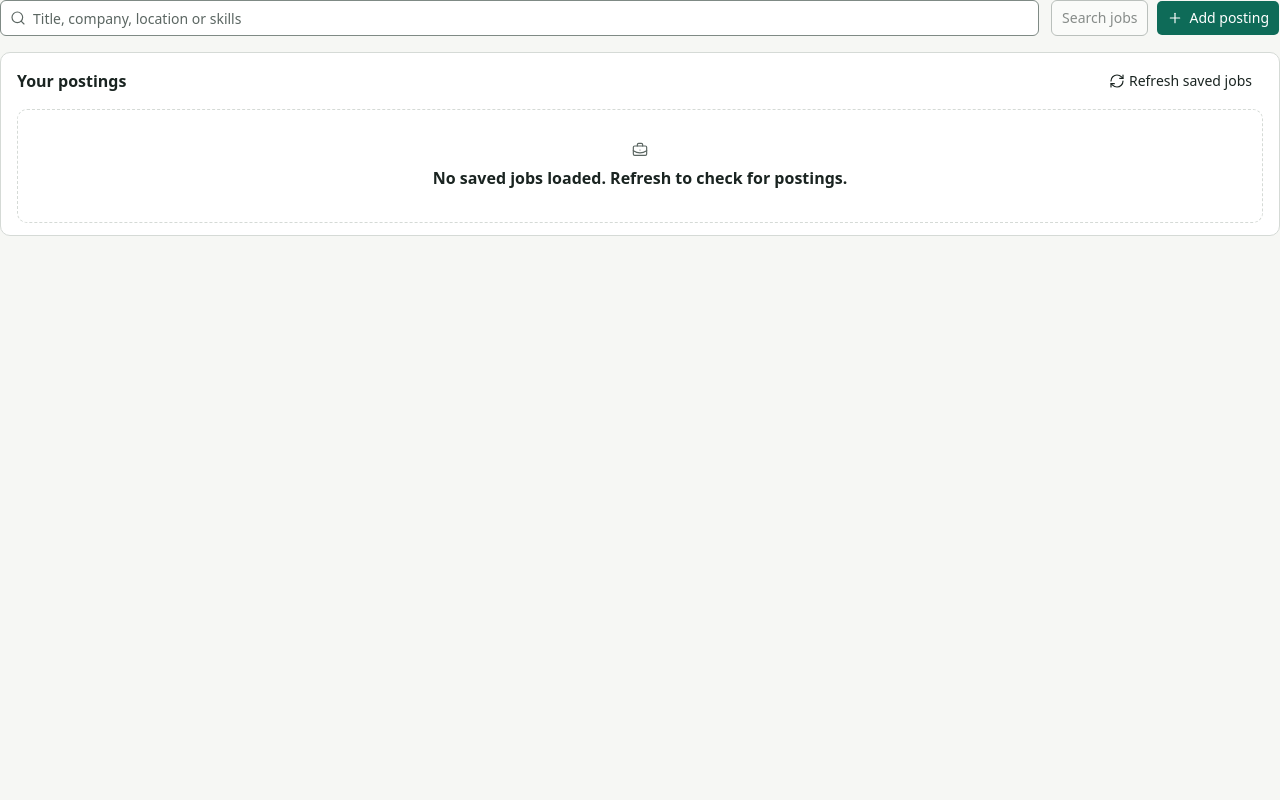
Test case: job delete › says that unsaved edits will be discarded
Click the button with test id "refreshJobsButton" at [1180, 81], box [1098,65,1263,97]
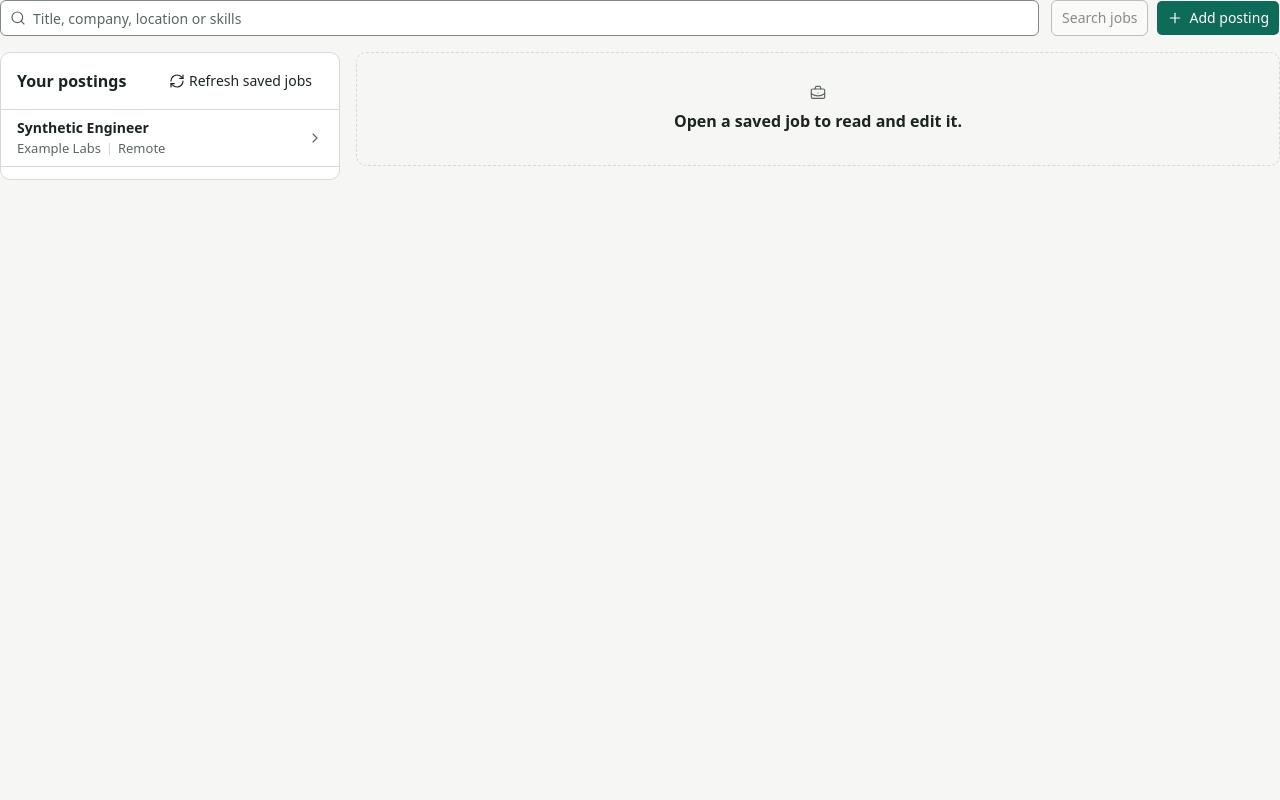
Click the button with aria-label "Open saved job Synthetic Engineer" at [83, 128], box [1,110,339,166]
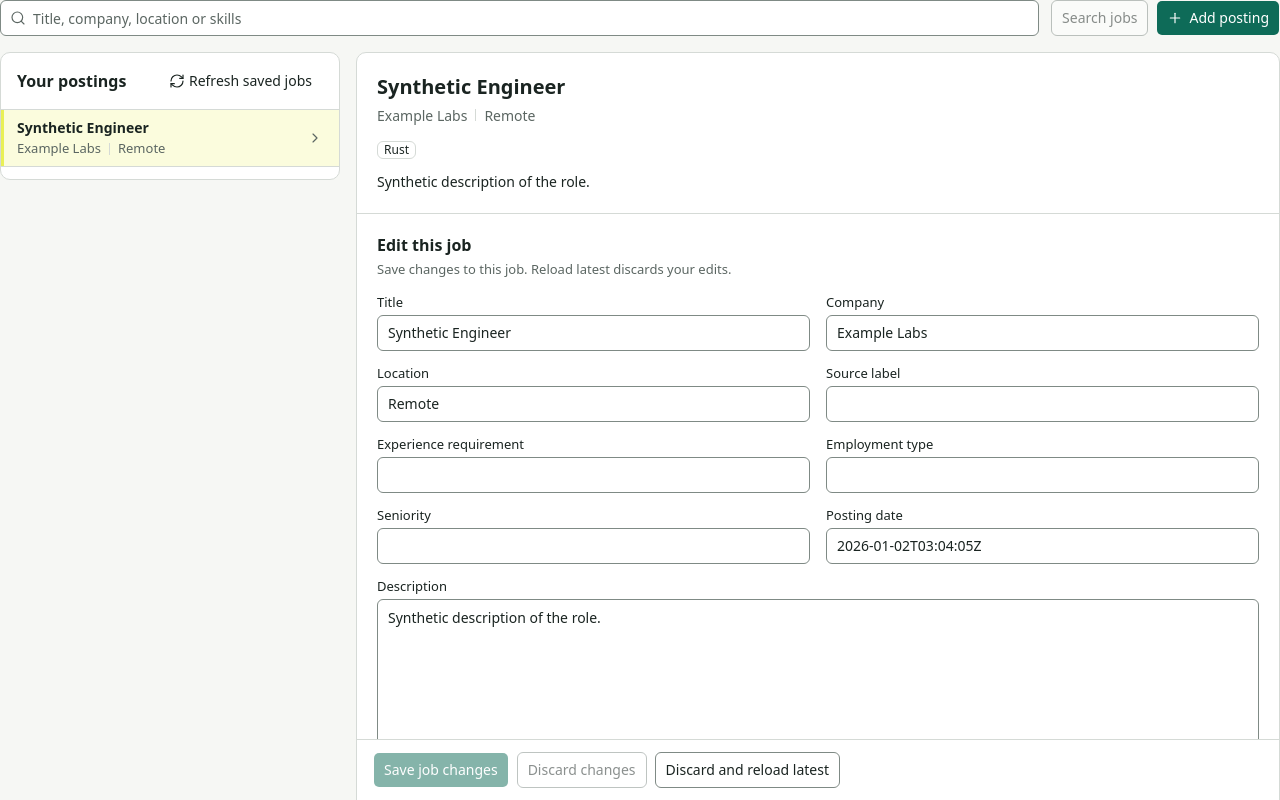
Replace the text in the field with test id "jobEdittitleInput" with "Synthetic Lead" at [594, 333], box [377,315,810,351]
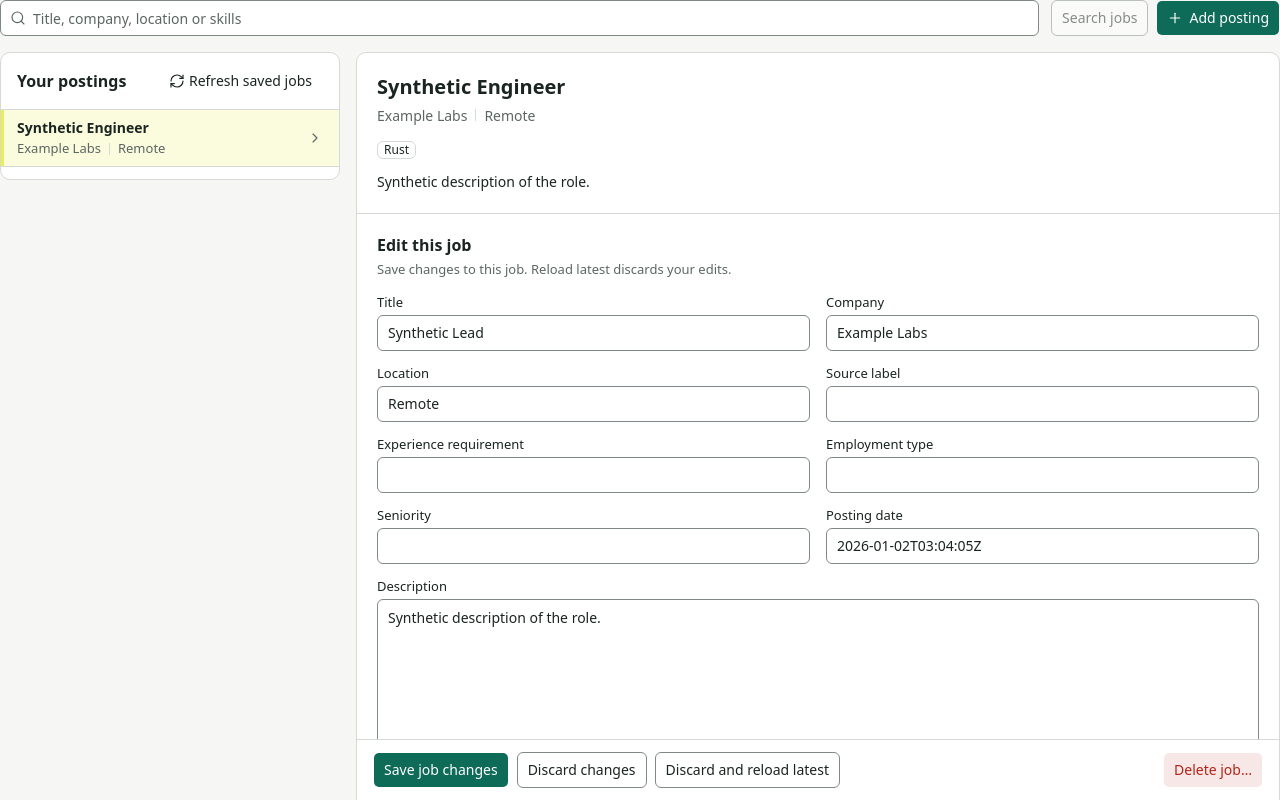
Click the button with test id "deleteJobButton" at [1213, 770], box [1163,752,1263,788]
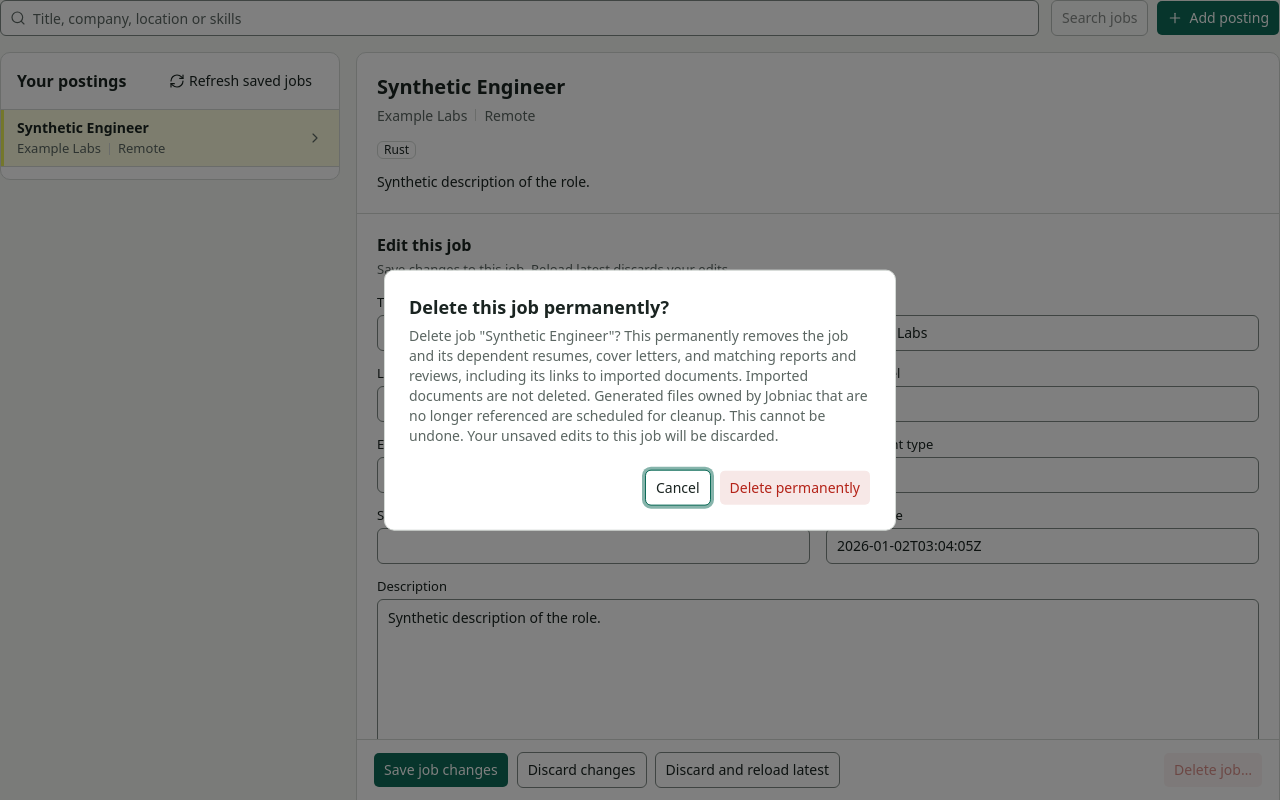
Now the dialog is shown, box [384,270,896,530]
Now the text with test id "deleteJobDialogMessage" shows "Your unsaved edits to this job will be discarded.", box [409,325,868,444]
